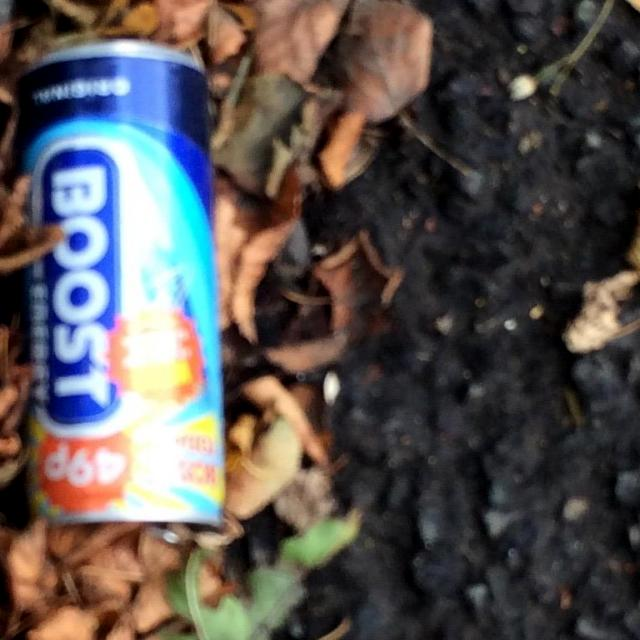Metal: (6, 32, 233, 535)
